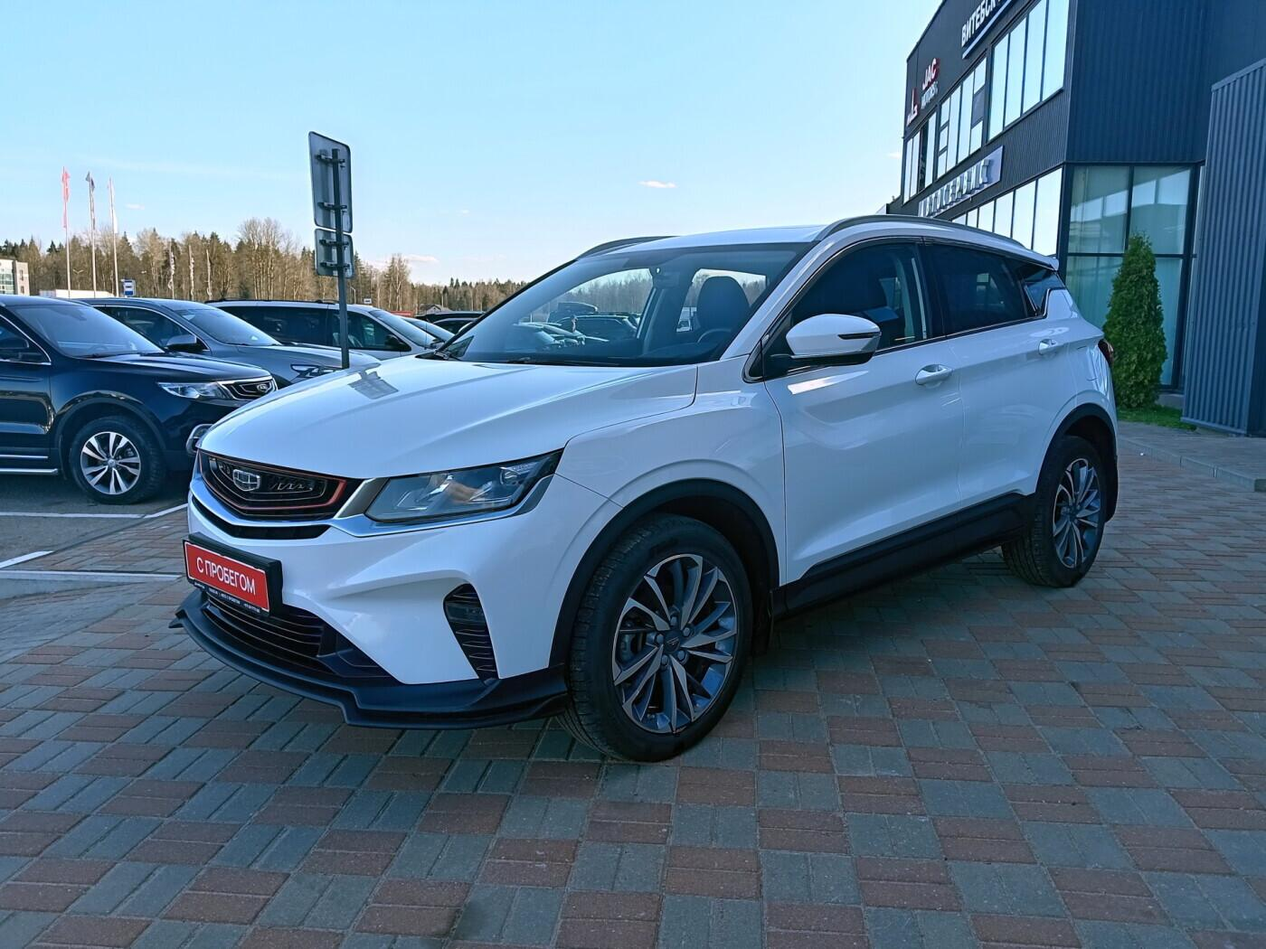Coolray_2019-2023: (176, 210, 1125, 757)
